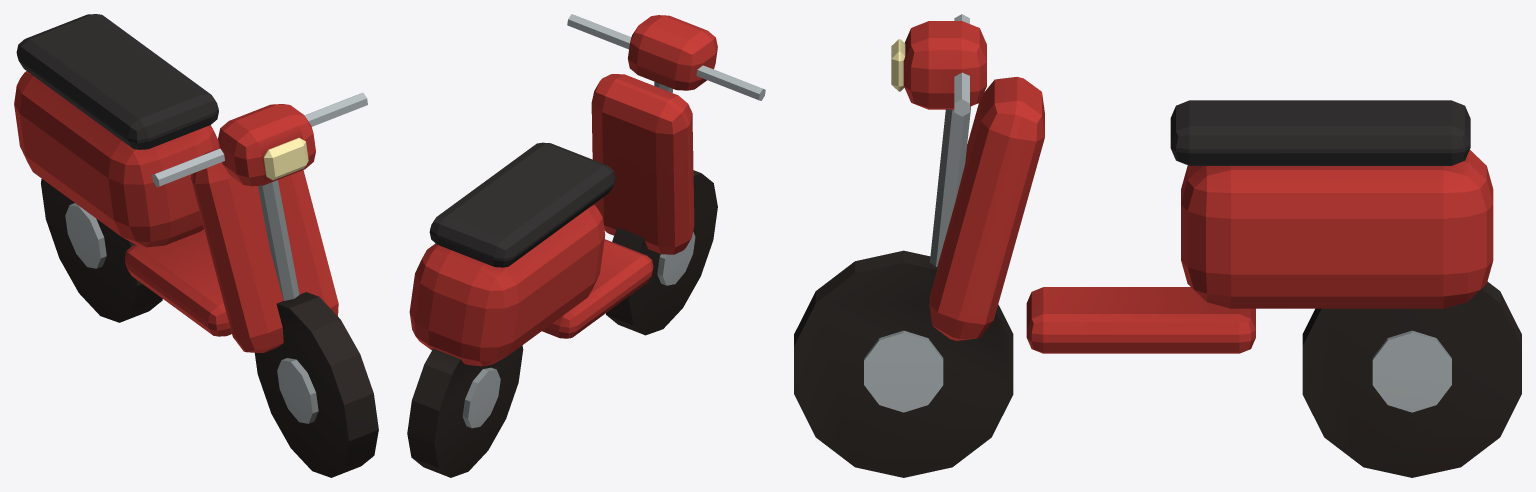
File: motor.glb
3 views of the same model, side by side, from view 1: azimuth 30°, elevation 25°; view 2: azimuth 150°, elevation 25°; view 3: azimuth 270°, elevation 25° (orthographic). The views are drawn at different scales.
Parts seen in each view (by area): view 1: motor_mesh; view 2: motor_mesh; view 3: motor_mesh.
Boxes of the visible parts, x1=… form: motor_mesh: x1=14, y1=14, x2=378, y2=477; motor_mesh: x1=407, y1=14, x2=765, y2=477; motor_mesh: x1=794, y1=14, x2=1521, y2=477.
Size of the model in its own units: 0.6993 by 1.12 by 1.75.
